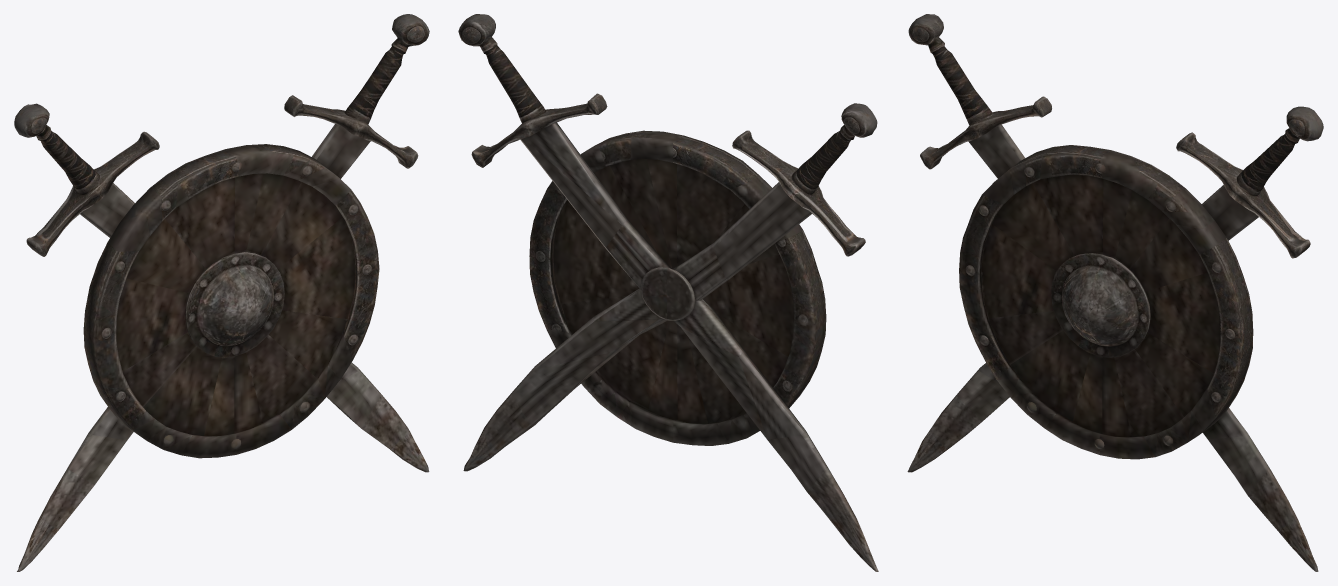
Rendered from d_sword_shield.glb.
3 renders of one model, left to right at view 1: azimuth 30°, elevation 25°; view 2: azimuth 150°, elevation 25°; view 3: azimuth 330°, elevation 25°, orthographic.
Visible parts, largest first — view 1: d_sword_shield; view 2: d_sword_shield; view 3: d_sword_shield.
Boxes of the visible parts, x1,y1,x2,y2 form: d_sword_shield: [14, 14, 429, 571]; d_sword_shield: [458, 14, 878, 571]; d_sword_shield: [907, 14, 1323, 571].
Size of the model in its own units: 1.57 by 1.67 by 0.2323.
1 material, 1 textured.
